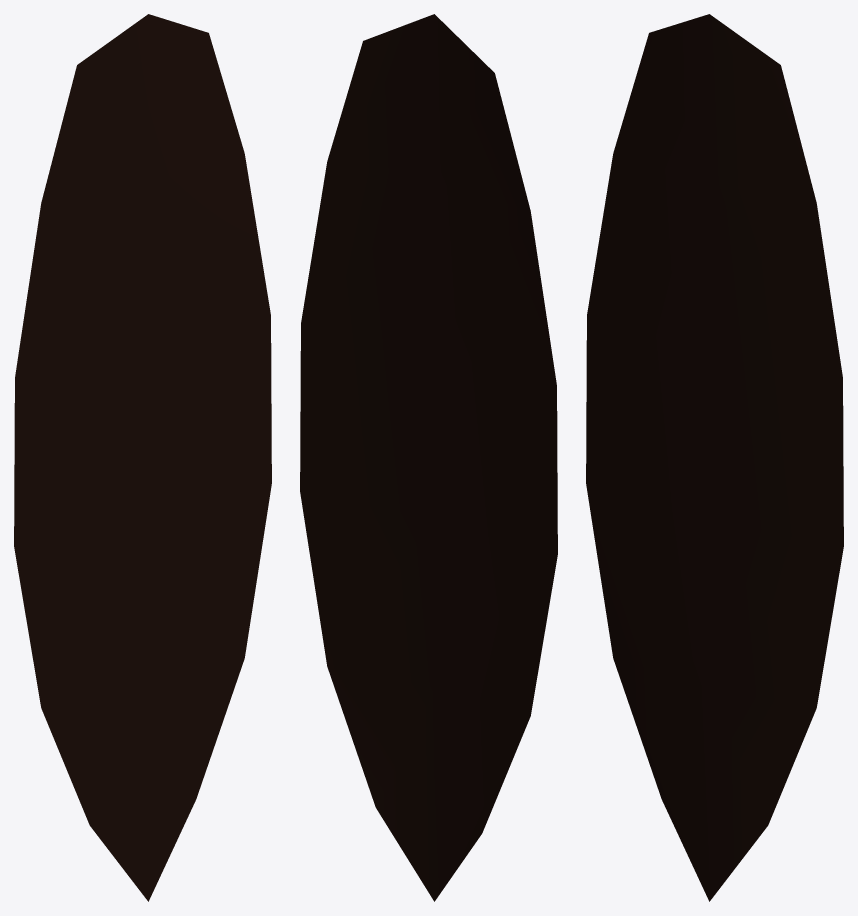
The model's file is hen_feather_flight_secondary_003.obj.
3 renders of one model, left to right at view 1: azimuth 30°, elevation 25°; view 2: azimuth 150°, elevation 25°; view 3: azimuth 330°, elevation 25°, orthographic.
Visible parts, largest first — view 1: feather_flight_secondary_003; view 2: feather_flight_secondary_003; view 3: feather_flight_secondary_003.
Boxes of the visible parts, x1,y1,x2,y2 form: feather_flight_secondary_003: (14,14,271,901); feather_flight_secondary_003: (300,14,557,901); feather_flight_secondary_003: (586,14,843,901).
Bounding box in the file's own units: 0.0142 × 0.0467 × 0.000524.
